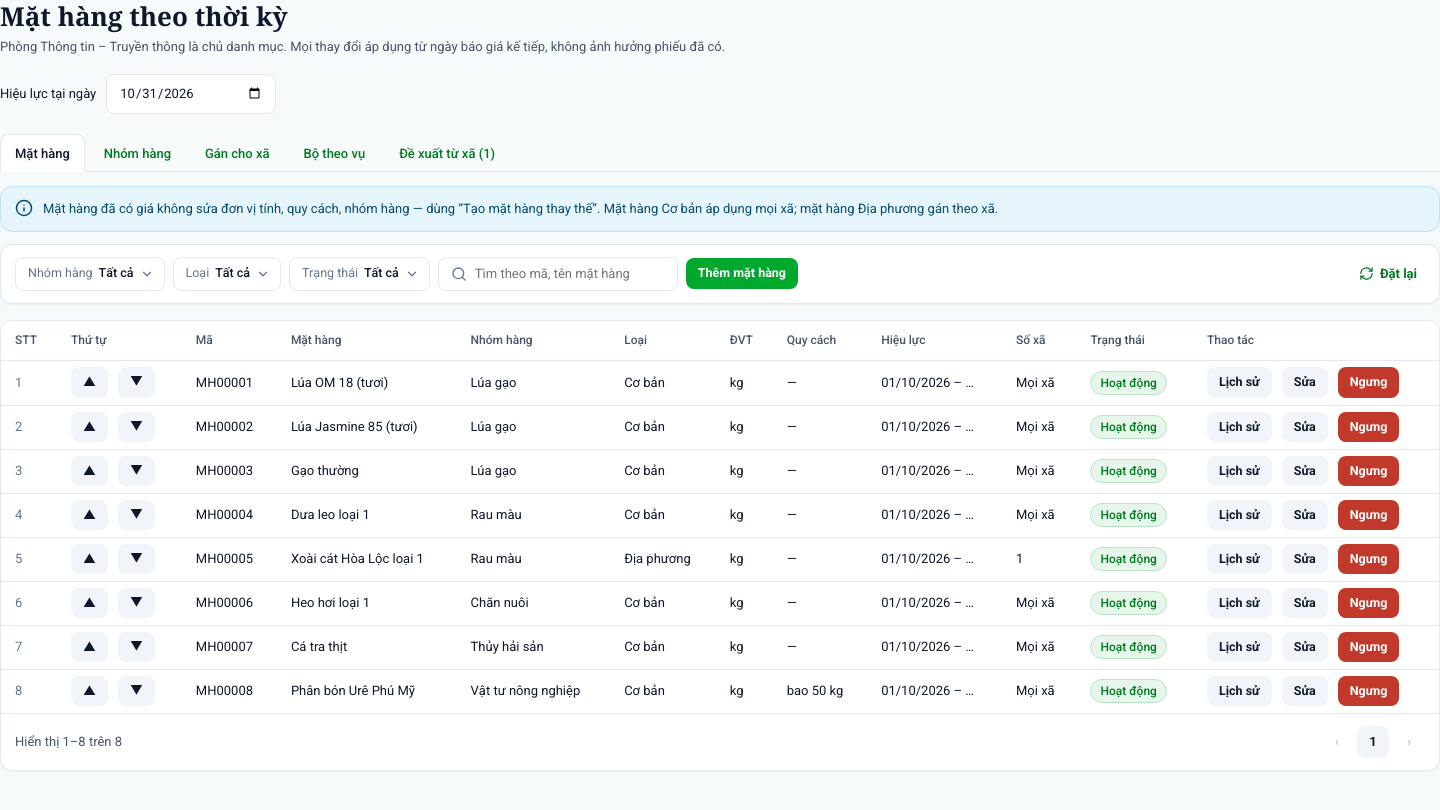
Test case: màn FN-AD-04.03 › Cấp Tỉnh xem danh mục, thêm mặt hàng qua hộp thoại
Expected: the text "MH00001" is shown, 182,361 -> 277,405
Expected: the tab "Đề xuất từ xã (1)" is shown, 384,134 -> 510,172
Click the button "Thêm mặt hàng". click: (742, 274)
box: 686,258 -> 798,289
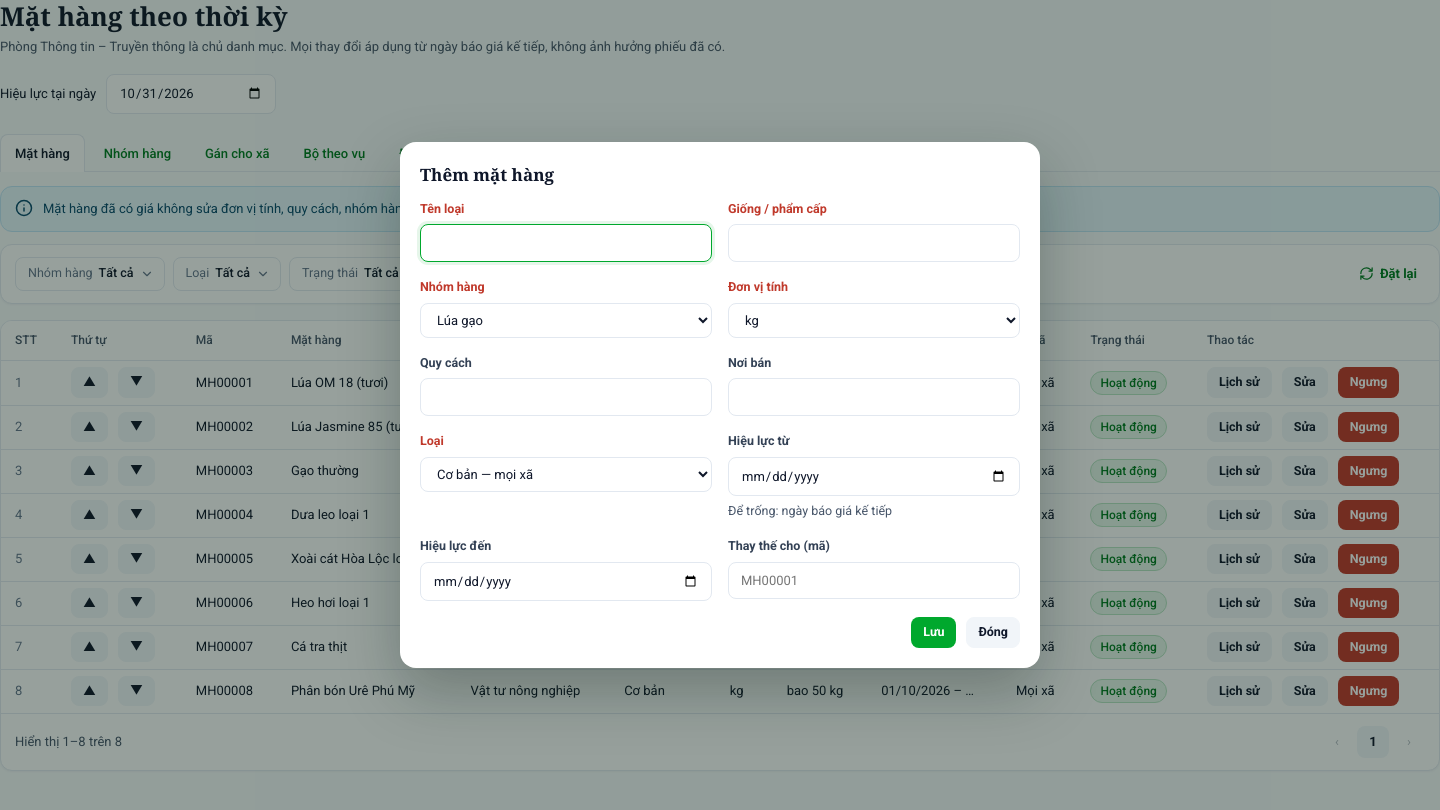
Type "Chanh" into the field labelled "Tên loại". click: (566, 243)
box: 420,224 -> 712,262
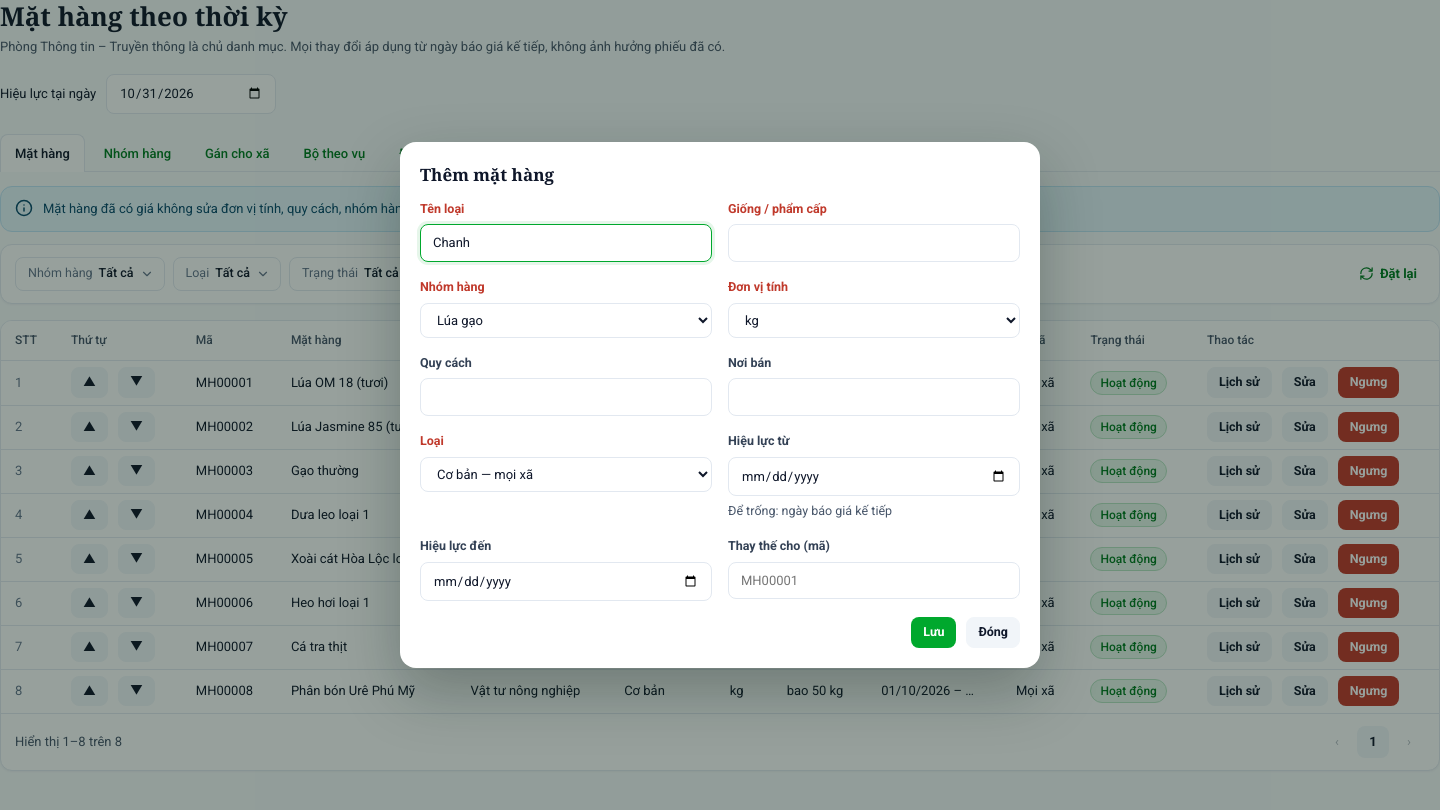
Type "không hạt" into the field labelled "Giống / phẩm cấp". click: (874, 243)
box: 728,224 -> 1020,262
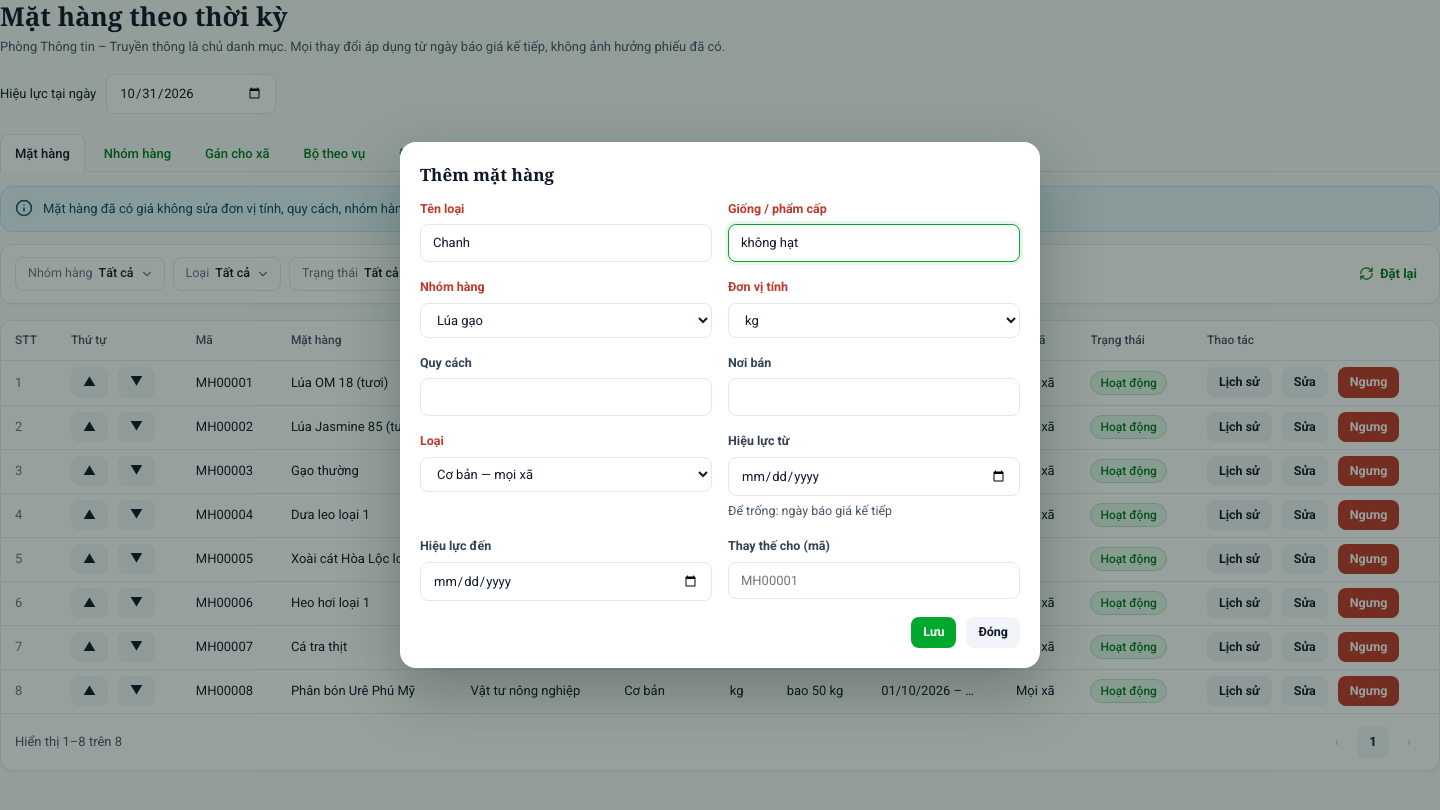
Click the button "Lưu". click: (934, 632)
box: 911,617 -> 956,648
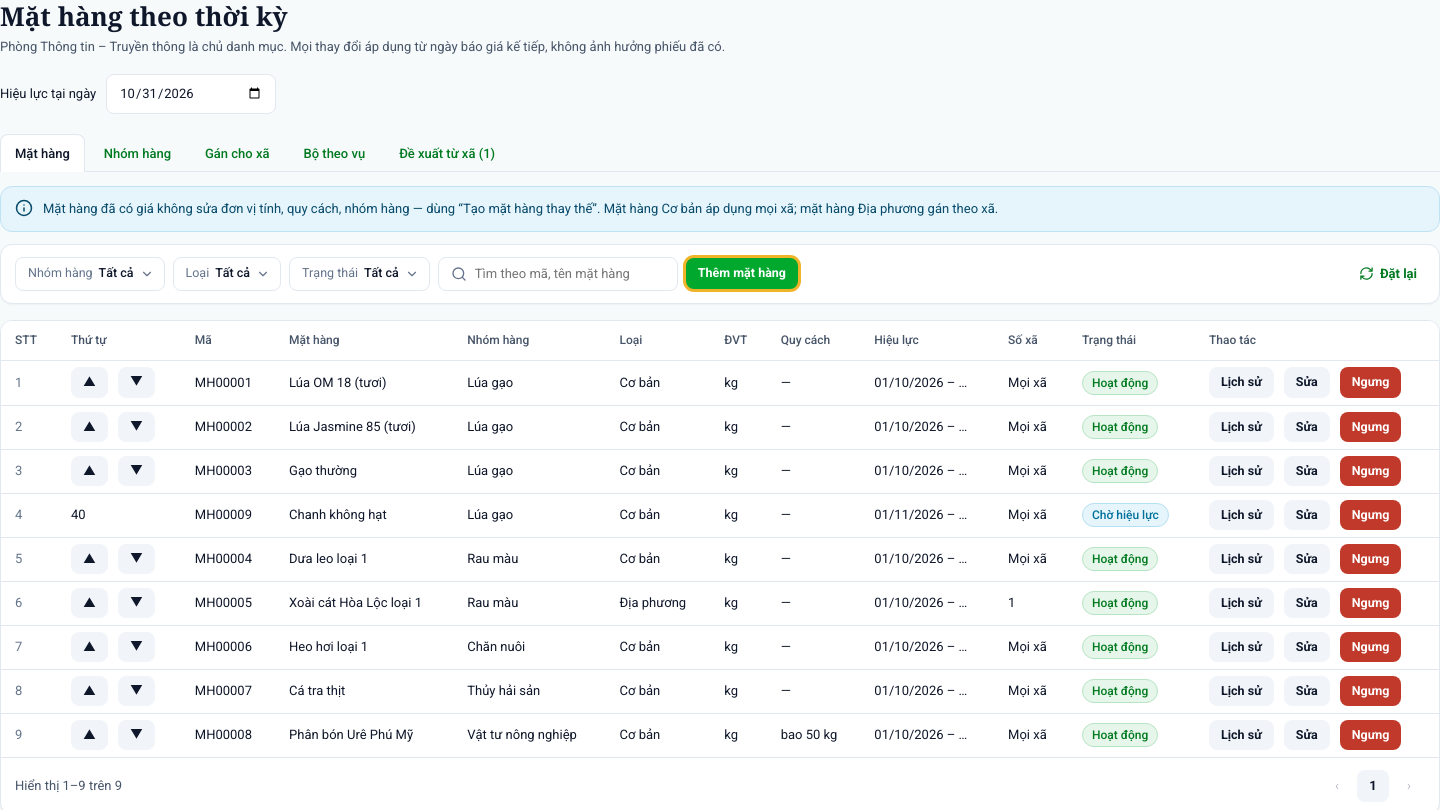
Now the dialog is gone
Now the text "MH00009" is shown, box 181,493 -> 275,537
